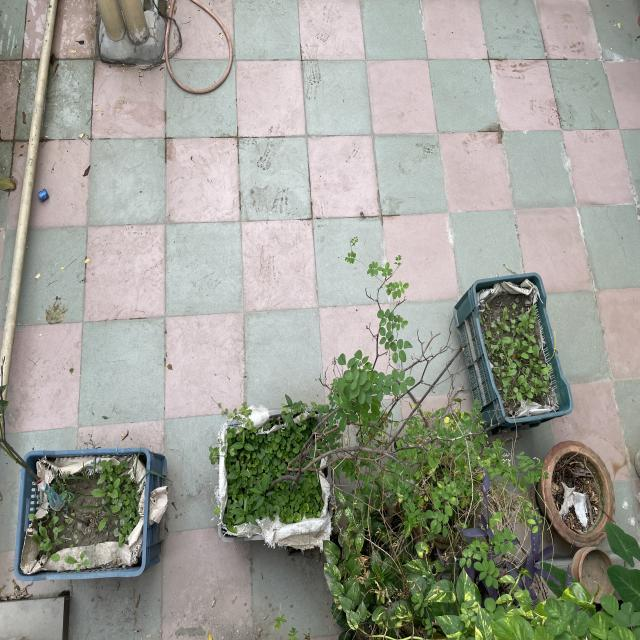Breeding Place: (19, 448, 166, 576), (461, 280, 575, 422), (223, 417, 333, 541), (542, 444, 614, 543)
